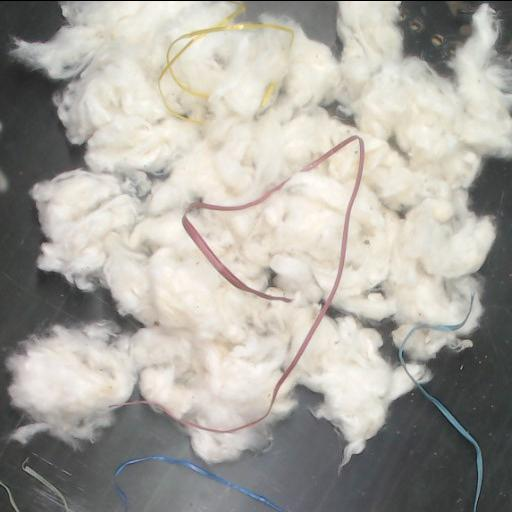cotton: (9, 1, 511, 466)
thread: (213, 136, 364, 432), (157, 1, 292, 121), (182, 209, 291, 301), (116, 455, 286, 512), (417, 384, 483, 512), (189, 177, 290, 209), (22, 458, 75, 512), (0, 480, 21, 512), (399, 347, 406, 368)
